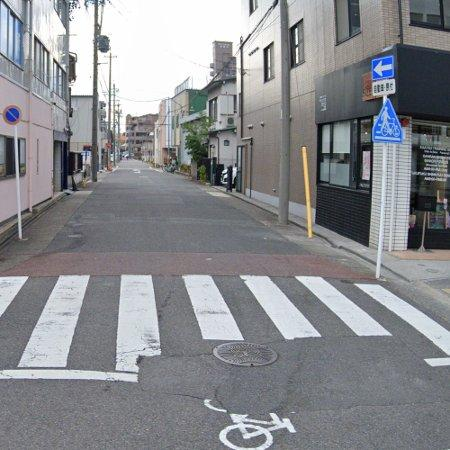crosswalks: (0, 272, 450, 384)
